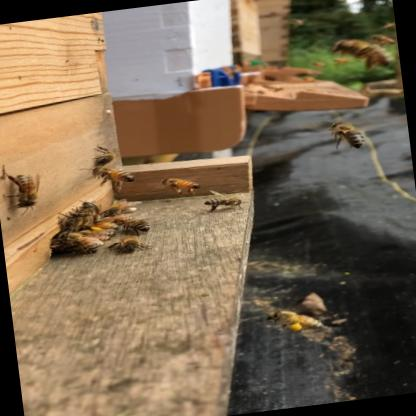bee: (51, 178, 175, 292), (319, 20, 400, 77), (308, 98, 378, 158), (0, 150, 58, 222), (74, 134, 136, 190), (148, 162, 216, 201), (180, 183, 254, 218), (155, 158, 215, 200)
